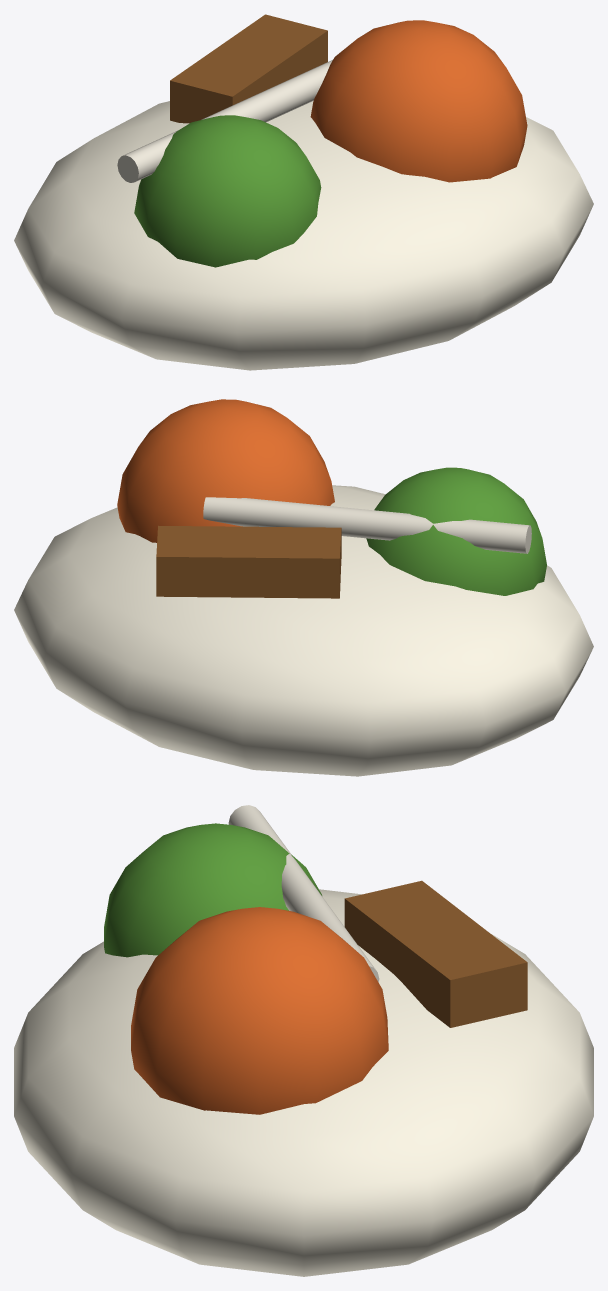
The model's file is waste_foodscraps.fbx.
3 views of the same model, one above another, from view 1: azimuth 30°, elevation 25°; view 2: azimuth 150°, elevation 25°; view 3: azimuth 270°, elevation 25° (orthographic). The views are drawn at different scales.
Visible parts, largest first — view 1: M__waste_foodscraps; view 2: M__waste_foodscraps; view 3: M__waste_foodscraps.
Boxes of the visible parts, box(x1,y1,x2,y2) form: M__waste_foodscraps: box(14, 14, 593, 370); M__waste_foodscraps: box(14, 399, 593, 776); M__waste_foodscraps: box(14, 805, 593, 1276).
Size of the model in its own units: 0.165 by 0.085 by 0.1316.
